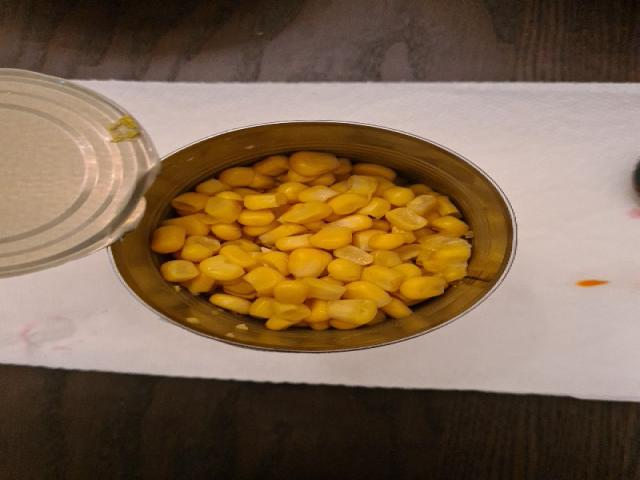kichen waste: (154, 153, 466, 329)
